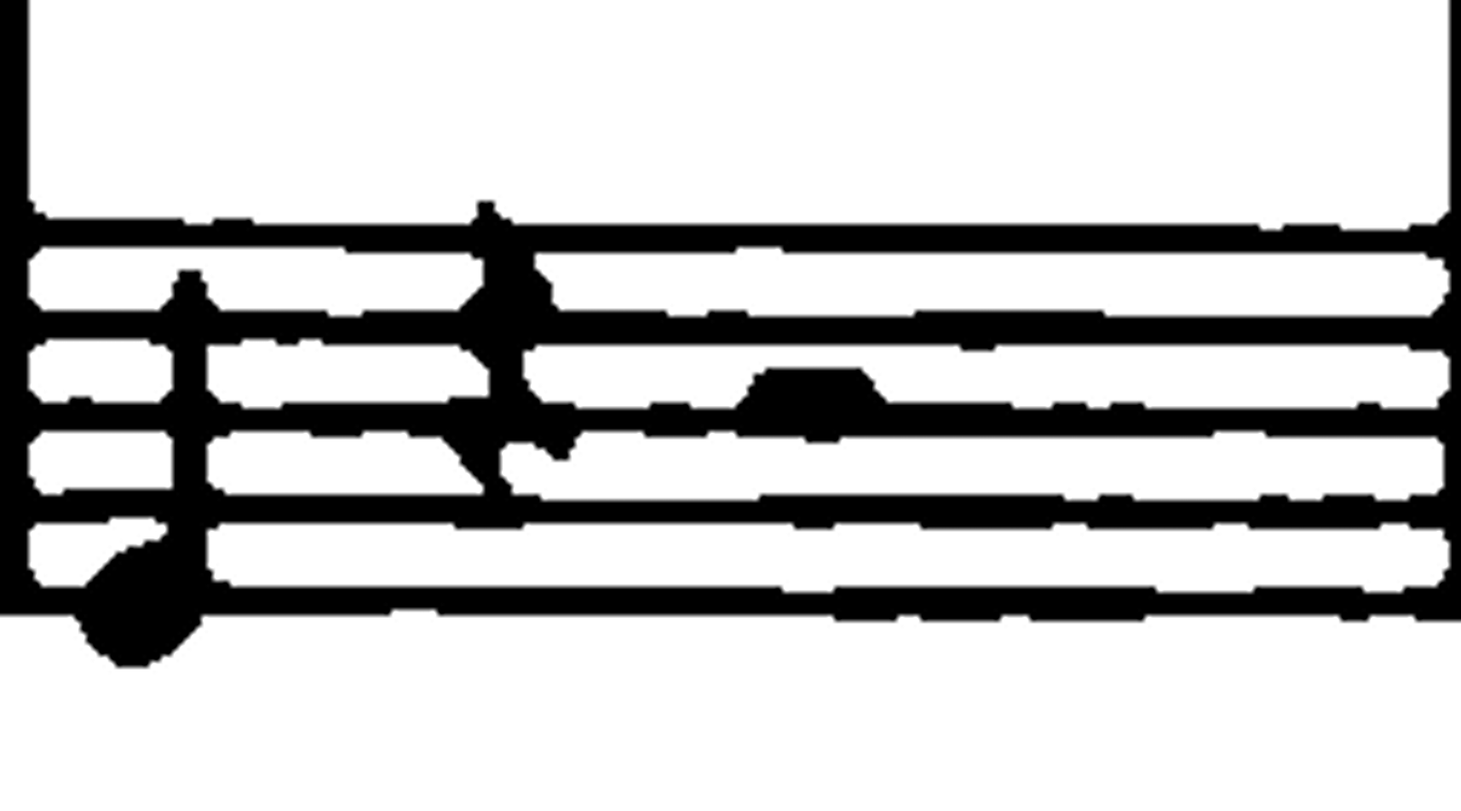flag8thDown: (159, 609, 200, 655)
noteheadBlackInSpace: (173, 431, 206, 473), (174, 347, 205, 385), (174, 448, 205, 485), (0, 448, 27, 490), (174, 344, 205, 373), (174, 444, 205, 467), (0, 1, 27, 27), (0, 1, 26, 20)
rest8th: (457, 445, 500, 528)
restHBar: (165, 485, 1260, 534), (165, 302, 1260, 349), (0, 484, 1077, 531), (0, 577, 1077, 623), (165, 579, 1260, 624), (165, 214, 1260, 258), (0, 395, 1004, 438), (386, 400, 1459, 439), (141, 402, 1194, 438), (3, 398, 809, 436)
